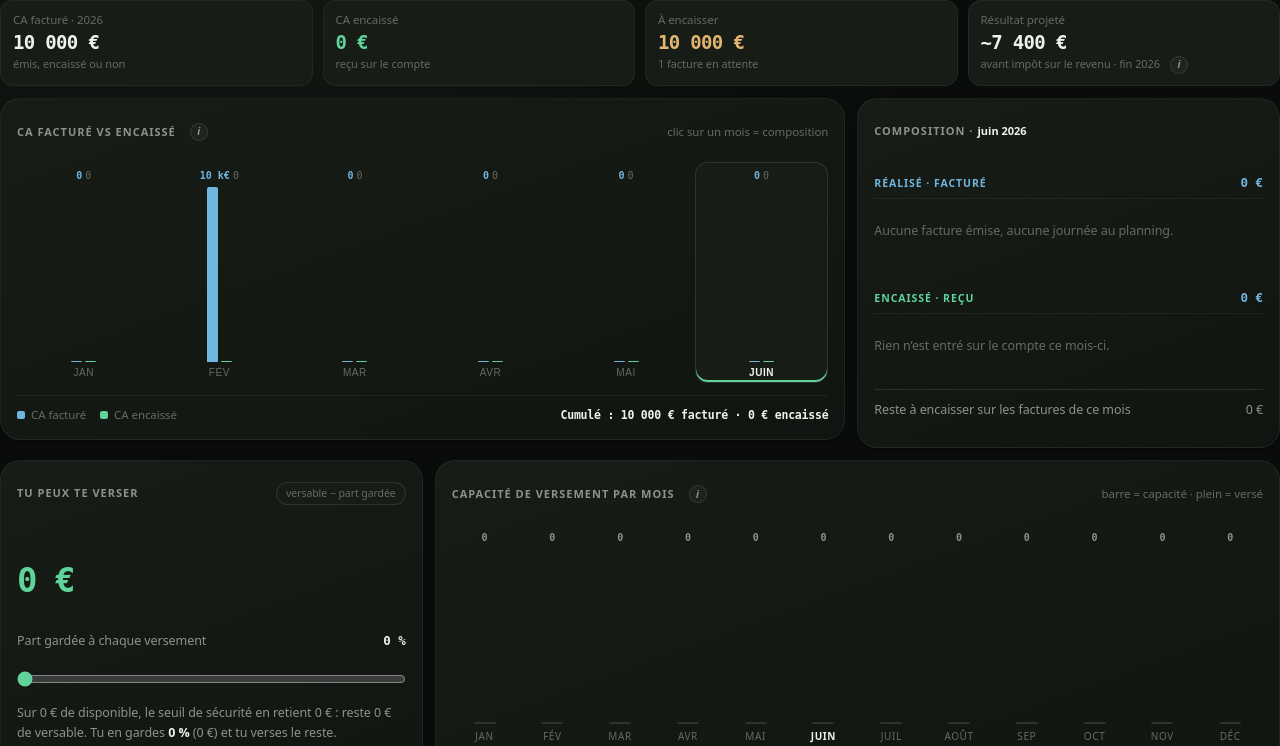
la composition du mois › suit le mois qu’on clique dans le graphe
Click the button "10 k€ 0 FÉV" at (219, 272), box [153, 162, 286, 383]
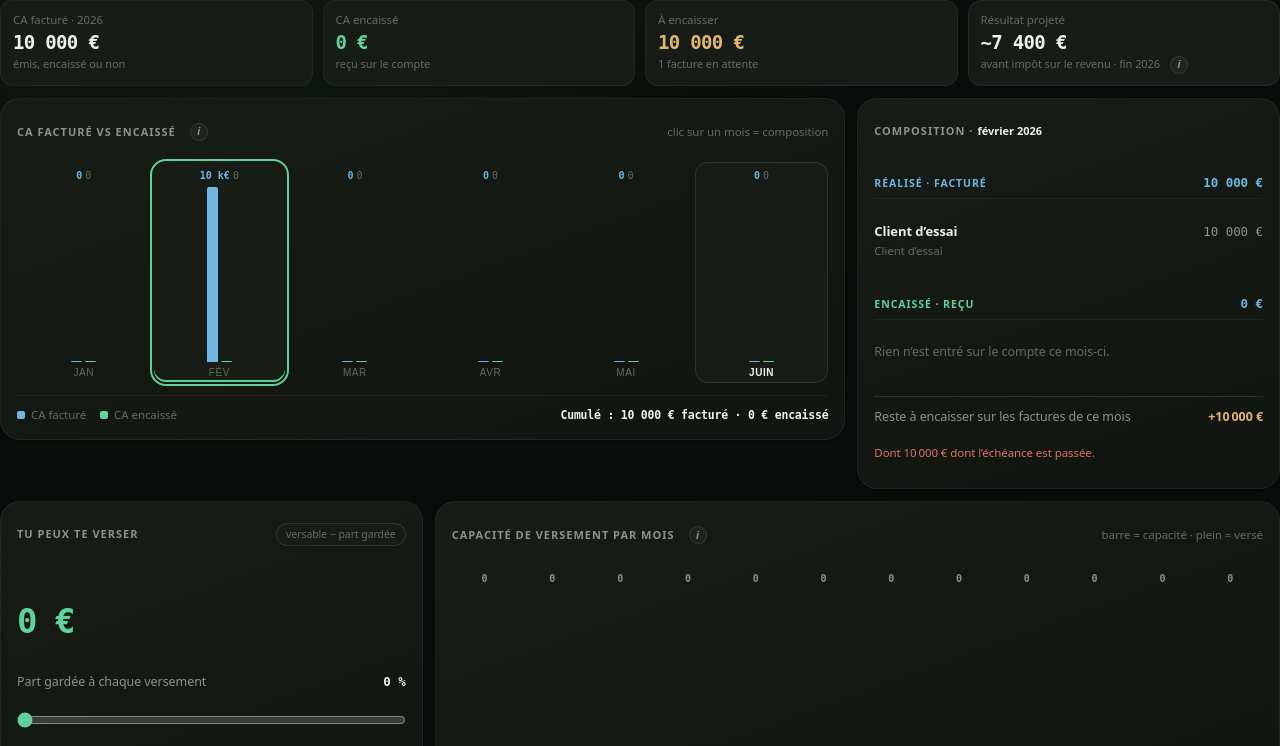
Expected: the heading "Composition · février 2026" is shown, [874, 123, 1042, 139]
